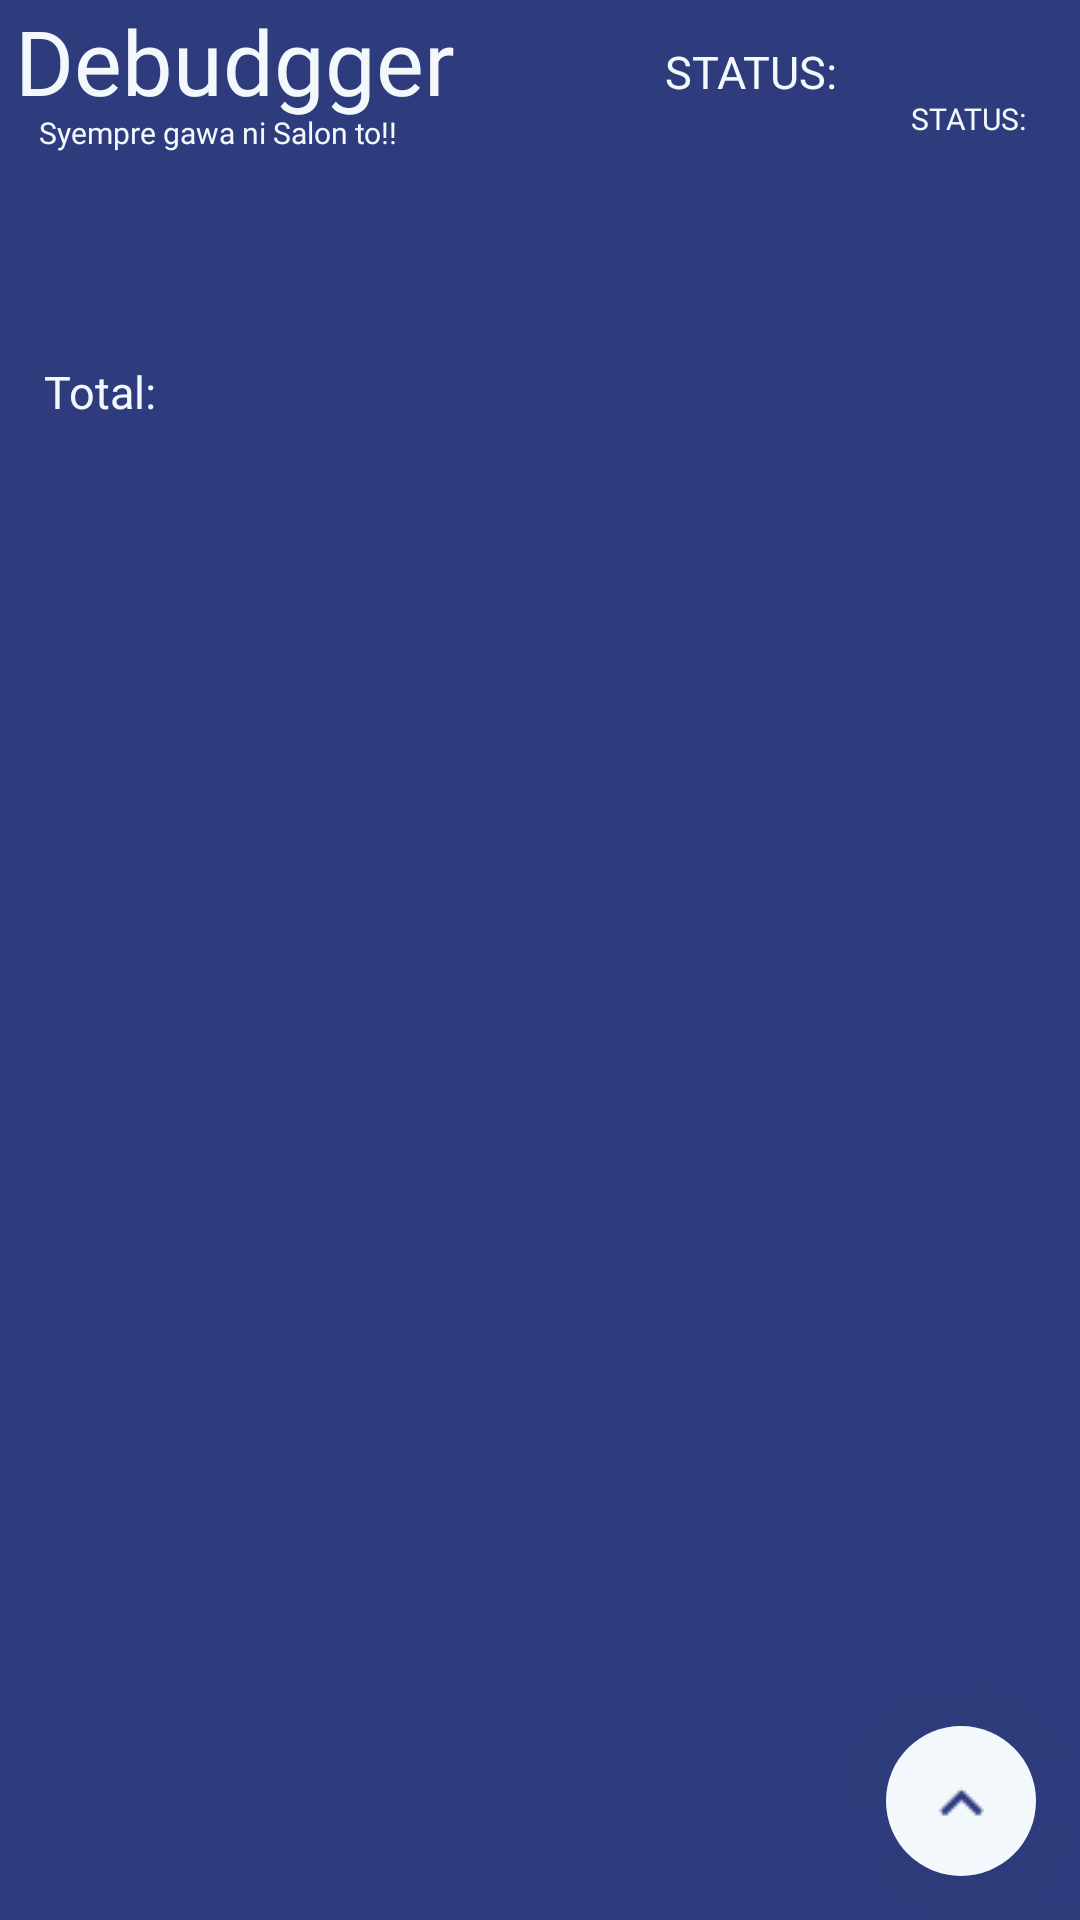

Point at icon controls on the screen. Image size 1080px×1920px, points as [x,y].
expandaa: [961,1801]
